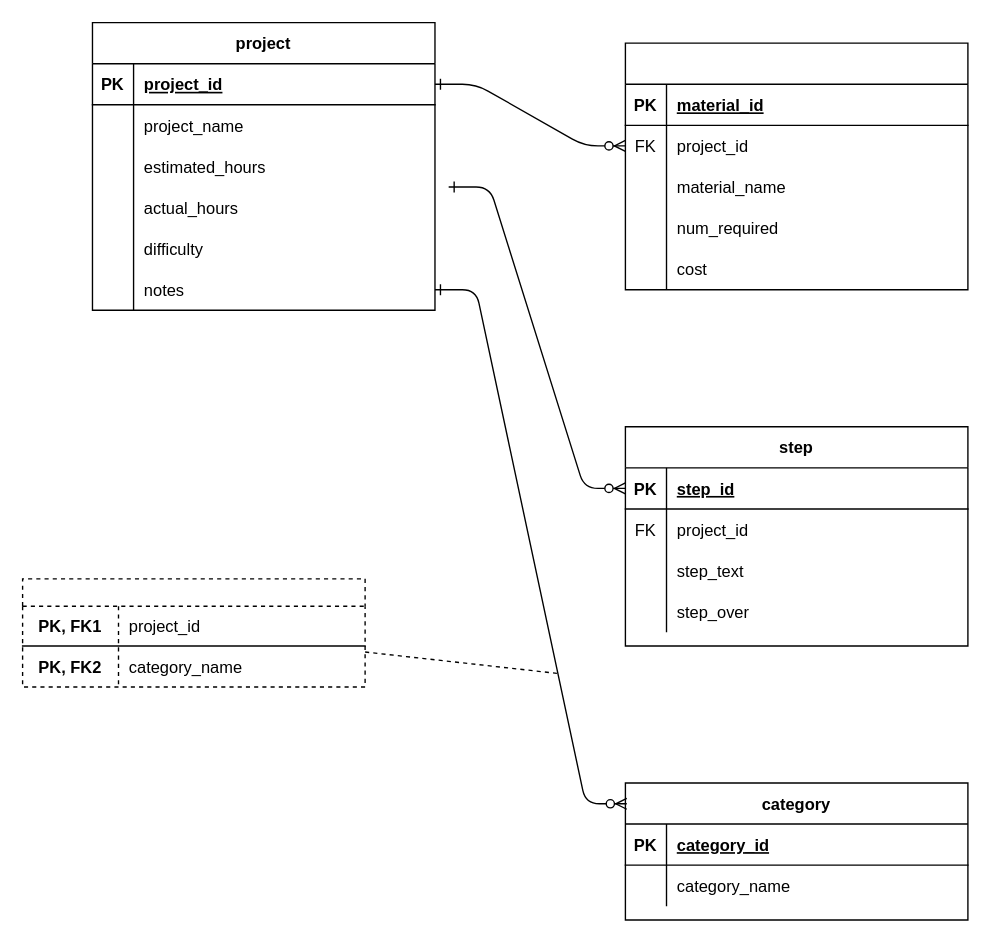
Image size: 991x943. Some labels were removed from this diagram. The box of each missing label's shape, as (x1, y1, x2, y2) in pixels:
materials: (624, 42, 968, 290)
project_category: (21, 577, 365, 687)
